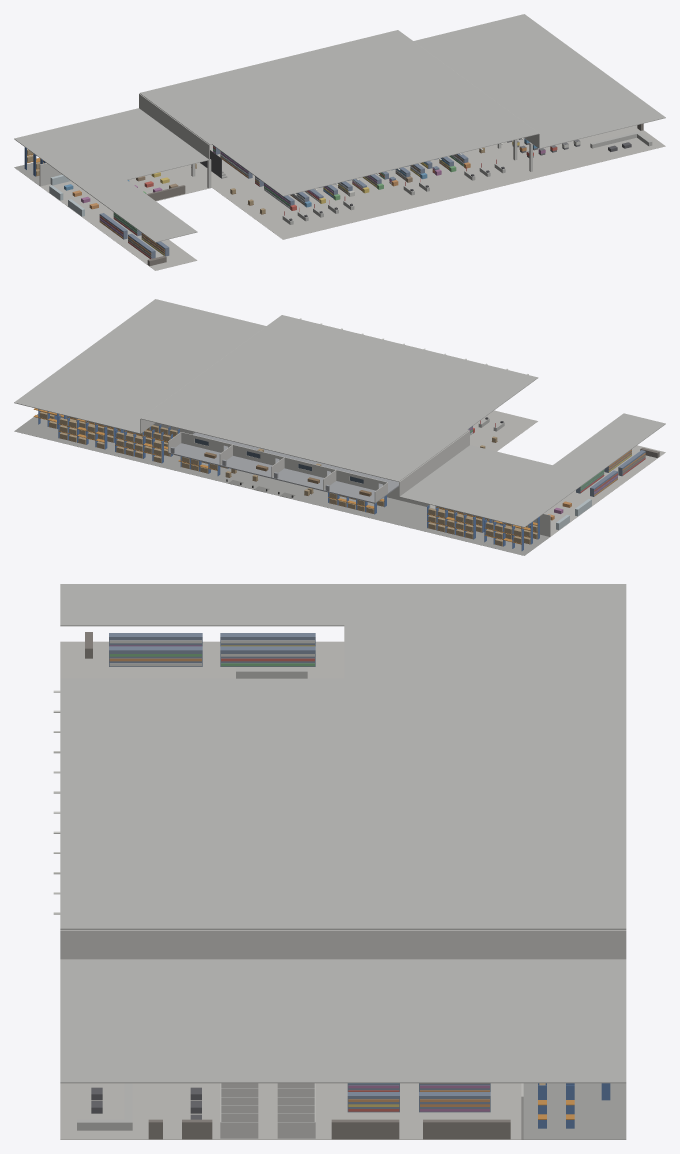
The model's file is superstore-interior.lod0.glb.
3 views of the same model, one above another, from view 1: azimuth 30°, elevation 25°; view 2: azimuth 150°, elevation 25°; view 3: azimuth 270°, elevation 25° (orthographic). The views are drawn at different scales.
Parts seen in each view (by area): view 1: superstore-interior; view 2: superstore-interior; view 3: superstore-interior.
Part boxes in pixels (x1,y1,x2,y2): superstore-interior: (14, 14, 665, 270); superstore-interior: (14, 299, 665, 555); superstore-interior: (53, 584, 626, 1139).
Bounding box in the file's own units: 148 × 12.16 × 71.99.
